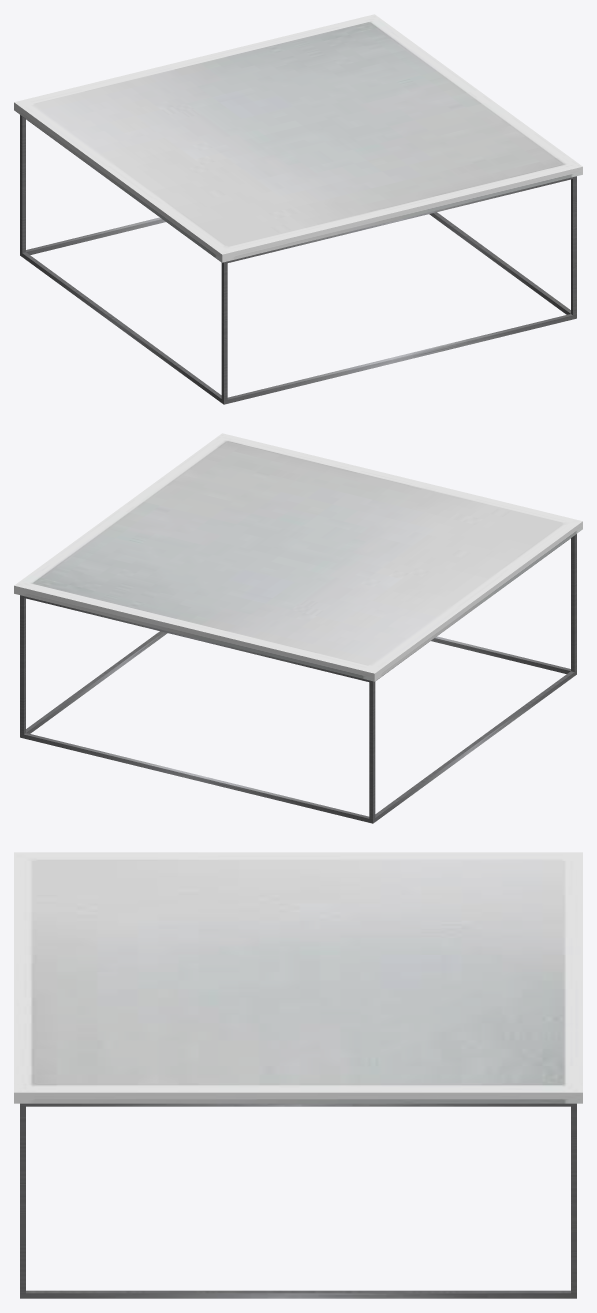
The model's file is Table001.FBX.
3 renders of one model, top to bottom at view 1: azimuth 30°, elevation 25°; view 2: azimuth 150°, elevation 25°; view 3: azimuth 270°, elevation 25°, orthographic. The views are drawn at different scales.
Parts seen in each view (by area): view 1: Table001; view 2: Table001; view 3: Table001.
Boxes of the visible parts, <box> form: Table001: <box>14,14,582,404</box>; Table001: <box>14,433,582,823</box>; Table001: <box>14,852,582,1298</box>.
Bounding box in the file's own units: 99.92 × 40.39 × 99.92.
